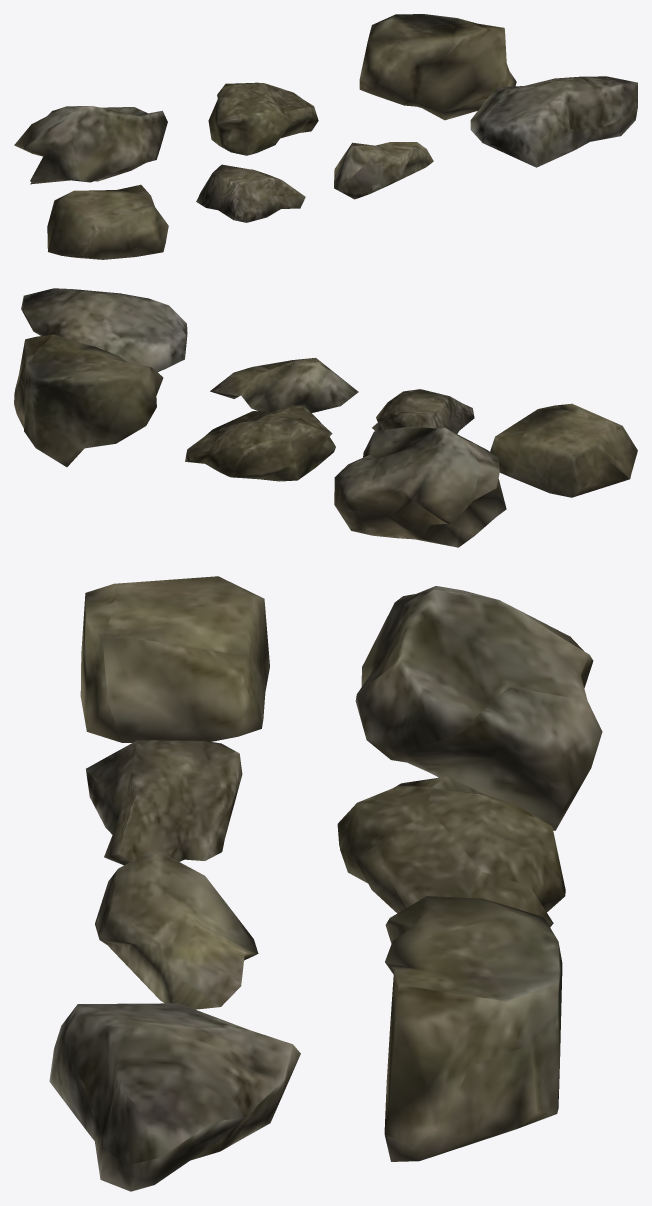
The model's file is rock_moss_set_02_lod.glb.
3 views of the same model, one above another, from view 1: azimuth 30°, elevation 25°; view 2: azimuth 150°, elevation 25°; view 3: azimuth 270°, elevation 25° (orthographic). The views are drawn at different scales.
Parts seen in each view (by area): view 1: rock_moss_set_02_rock08; view 2: rock_moss_set_02_rock08; view 3: rock_moss_set_02_rock08.
Boxes of the visible parts, x1,y1,x2,y2 form: rock_moss_set_02_rock08: (14,14,637,259); rock_moss_set_02_rock08: (14,288,637,547); rock_moss_set_02_rock08: (49,576,602,1191).
Size of the model in its own units: 8.27 by 1.36 by 3.38.
Materials: 1 (1 with a texture image).
